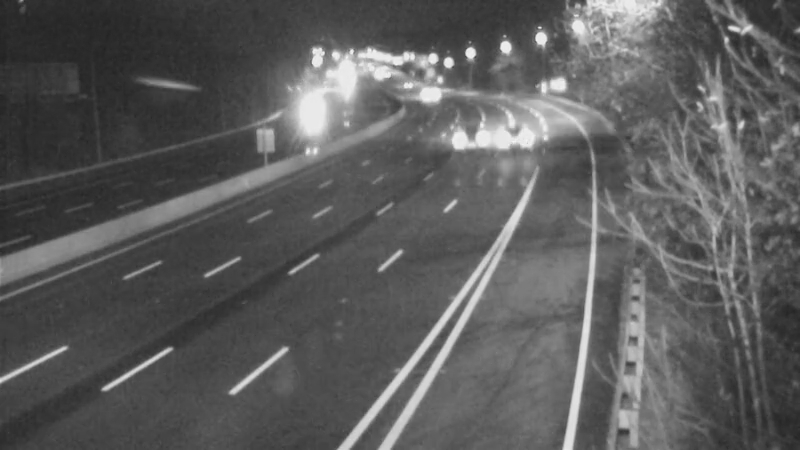vehicle: (378, 60, 428, 110), (398, 68, 448, 118), (443, 109, 493, 159), (489, 112, 539, 162), (285, 85, 335, 135)
